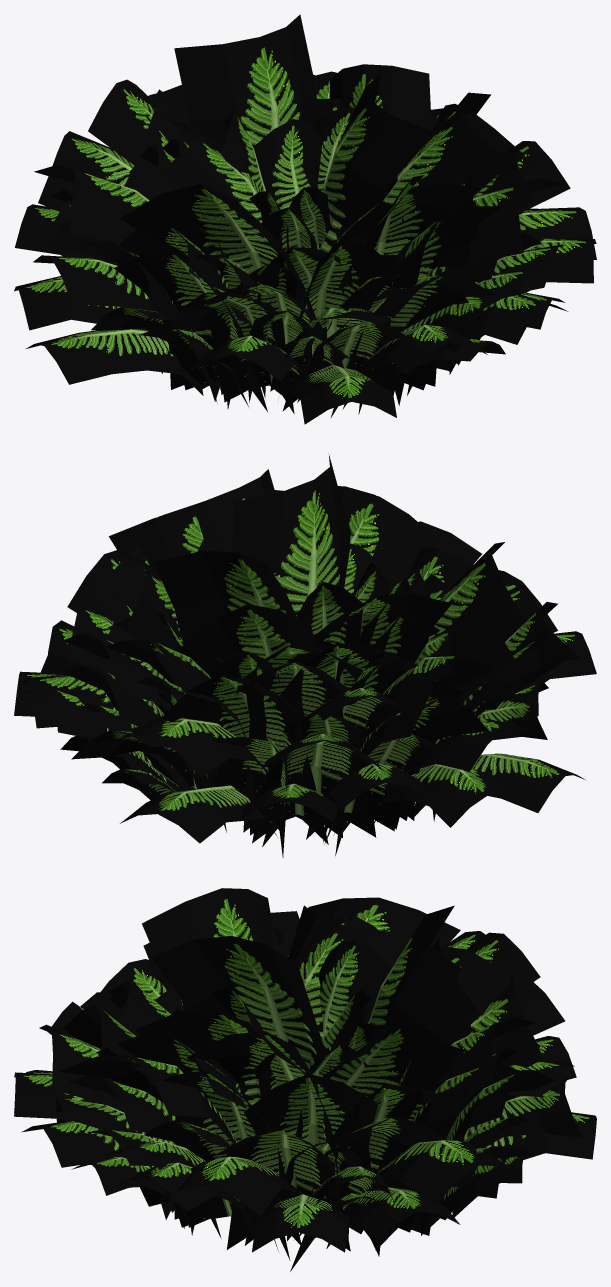
File: long bush.fbx
3 views of the same model, one above another, from view 1: azimuth 30°, elevation 25°; view 2: azimuth 150°, elevation 25°; view 3: azimuth 270°, elevation 25° (orthographic).
Visible parts, largest first — view 1: Long bush.074, Long bush.100, Long bush.066, Long bush.003, Long bush.099, Long bush.102, Long bush.041, Long bush.014, Long bush.089, Long bush.058, Long bush.101, Long bush.081 (+51 smaller); view 2: Long bush.100, Long bush.074, Long bush.066, Long bush.042, Long bush.075, Long bush.020, Long bush.081, Long bush.041, Long bush.001, Long bush.002, Long bush.013, Long bush.056 (+47 smaller); view 3: Long bush.100, Long bush.044, Long bush.074, Long bush.066, Long bush.089, Long bush.023, Long bush.101, Long bush.088, Long bush.022, Long bush.070, Long bush.095, Long bush.036 (+46 smaller).
Part boxes in pixels (bbox=[...]): Long bush.074: bbox=[174, 14, 318, 147]; Long bush.100: bbox=[319, 74, 435, 253]; Long bush.066: bbox=[121, 183, 315, 388]; Long bush.003: bbox=[26, 329, 203, 395]; Long bush.099: bbox=[383, 105, 513, 381]; Long bush.102: bbox=[253, 119, 322, 209]; Long bush.041: bbox=[34, 164, 220, 401]; Long bush.014: bbox=[113, 251, 267, 411]; Long bush.089: bbox=[329, 64, 431, 130]; Long bush.058: bbox=[299, 242, 398, 317]; Long bush.101: bbox=[158, 117, 262, 258]; Long bush.081: bbox=[341, 183, 479, 304]; Long bush.100: bbox=[231, 453, 350, 616]; Long bush.074: bbox=[153, 551, 311, 660]; Long bush.066: bbox=[395, 542, 524, 829]; Long bush.042: bbox=[161, 674, 328, 844]; Long bush.075: bbox=[185, 604, 318, 677]; Long bush.020: bbox=[252, 734, 383, 843]; Long bush.081: bbox=[338, 486, 433, 591]; Long bush.041: bbox=[324, 655, 533, 844]; Long bush.001: bbox=[120, 785, 277, 843]; Long bush.002: bbox=[119, 716, 280, 822]; Long bush.013: bbox=[369, 764, 521, 832]; Long bush.056: bbox=[237, 662, 349, 832]; Long bush.100: bbox=[152, 936, 331, 1077]; Long bush.044: bbox=[244, 1073, 378, 1245]; Long bush.074: bbox=[368, 905, 461, 1030]; Long bush.066: bbox=[142, 888, 273, 989]; Long bush.089: bbox=[287, 1023, 459, 1240]; Long bush.023: bbox=[214, 1131, 350, 1251]; Long bush.101: bbox=[288, 905, 413, 1038]; Long bush.088: bbox=[187, 1031, 339, 1193]; Long bush.022: bbox=[361, 1140, 521, 1225]; Long bush.070: bbox=[57, 1056, 278, 1251]; Long bush.095: bbox=[318, 939, 391, 1036]; Long bush.036: bbox=[156, 1156, 304, 1218].
Size of the model in its own units: 234 by 135 by 232.
1 material, 1 textured.
